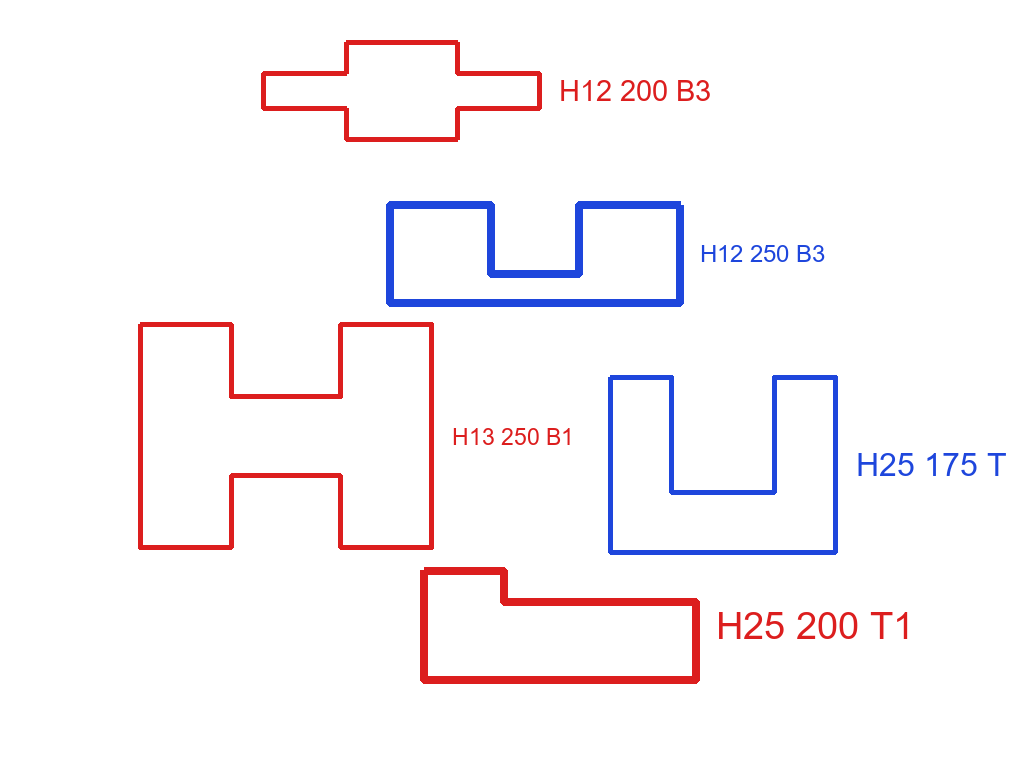shape: (136, 320, 436, 552), (606, 373, 840, 557), (418, 565, 702, 687), (384, 199, 686, 308), (259, 38, 544, 144)
text: (714, 610, 916, 641), (854, 451, 1009, 478), (557, 79, 713, 104), (698, 243, 827, 264), (450, 426, 576, 447)
